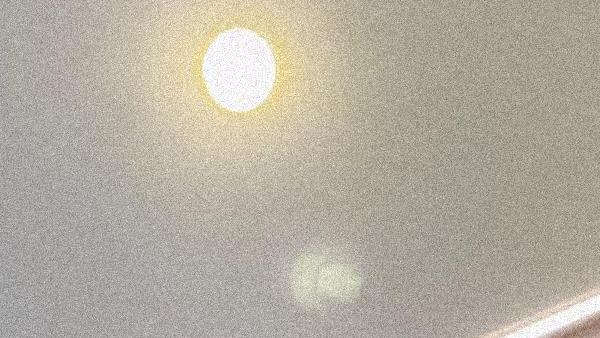light_on: (430, 244, 600, 338), (175, 13, 306, 117)
